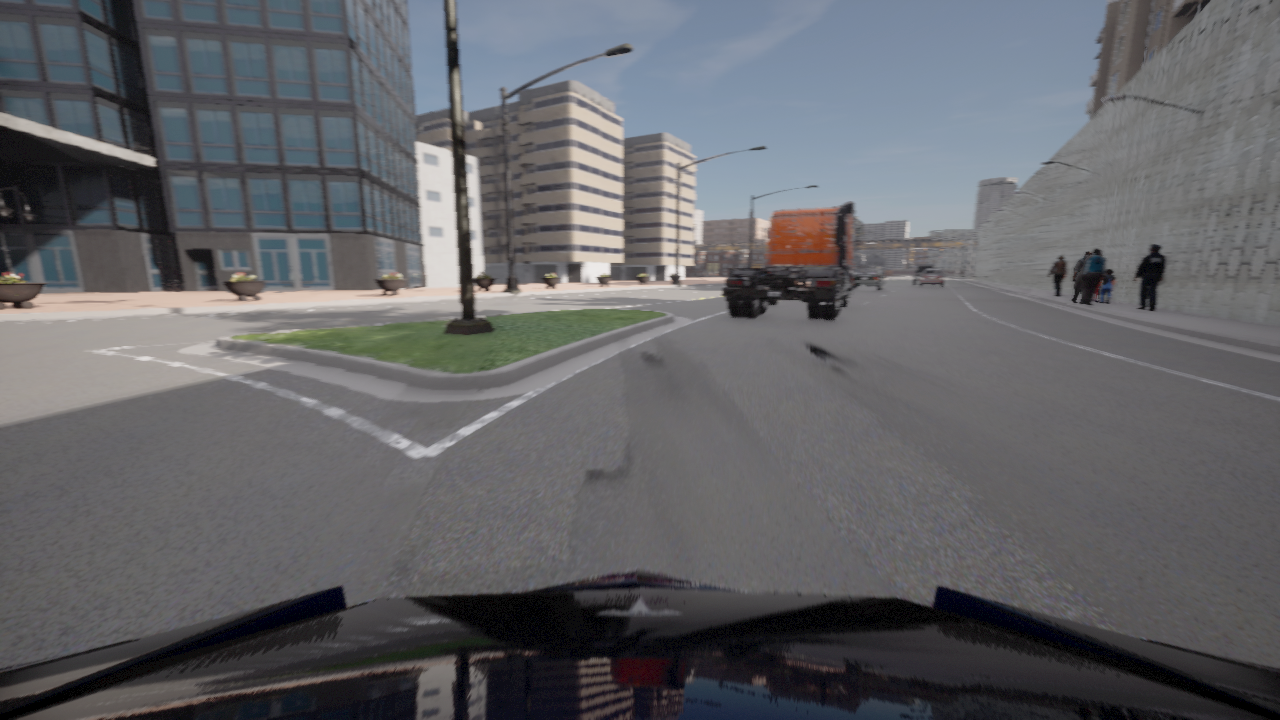cyclist: (0, 569, 1279, 719), (723, 202, 863, 320), (851, 266, 885, 290)
pedestrian: (1135, 245, 1166, 310), (1082, 249, 1106, 304), (1072, 251, 1092, 303), (1049, 255, 1067, 296), (1099, 269, 1115, 303), (1093, 253, 1102, 301)
